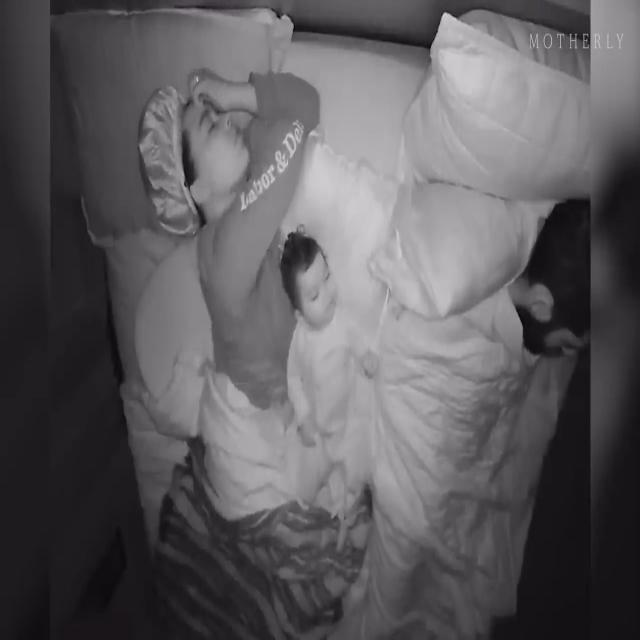baby: (278, 232, 378, 497)
